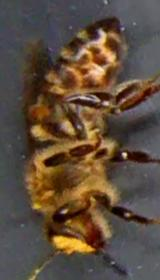varroa_mite: (24, 98, 52, 120)
